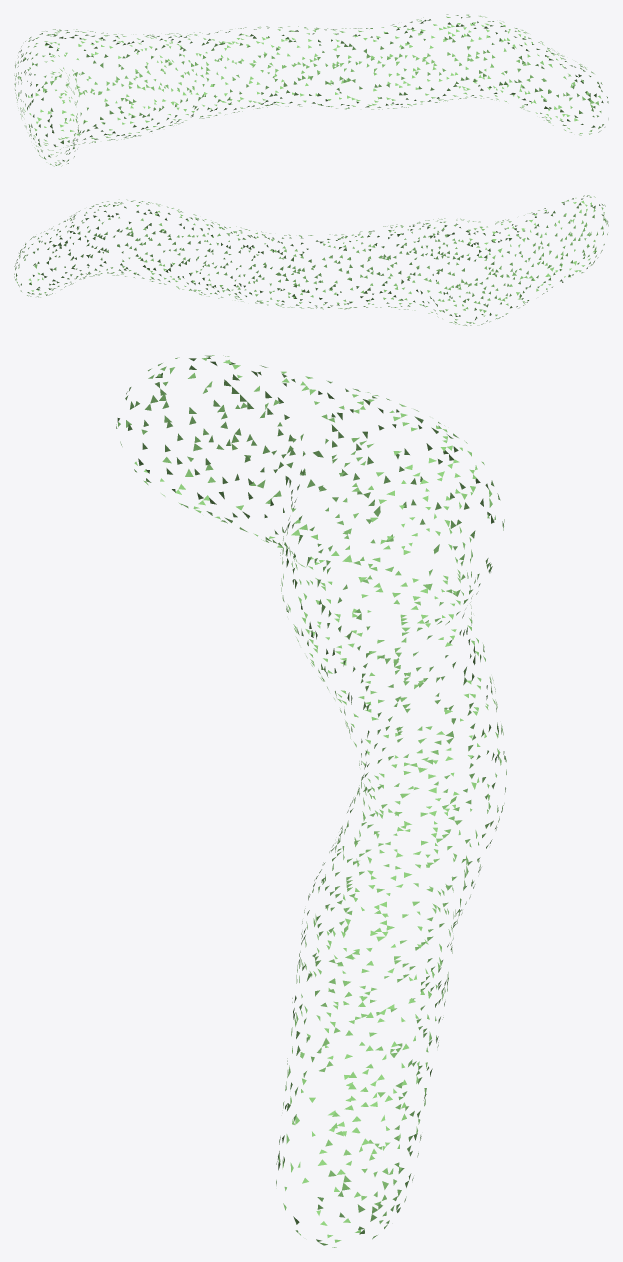
File: morph_015.glb
The picture shows the model from 3 angles, top to bottom: view 1: azimuth 30°, elevation 25°; view 2: azimuth 150°, elevation 25°; view 3: azimuth 270°, elevation 25°; orthographic projection. The views are drawn at different scales.
Size of the model in its own units: 110 by 38.09 by 34.29.
